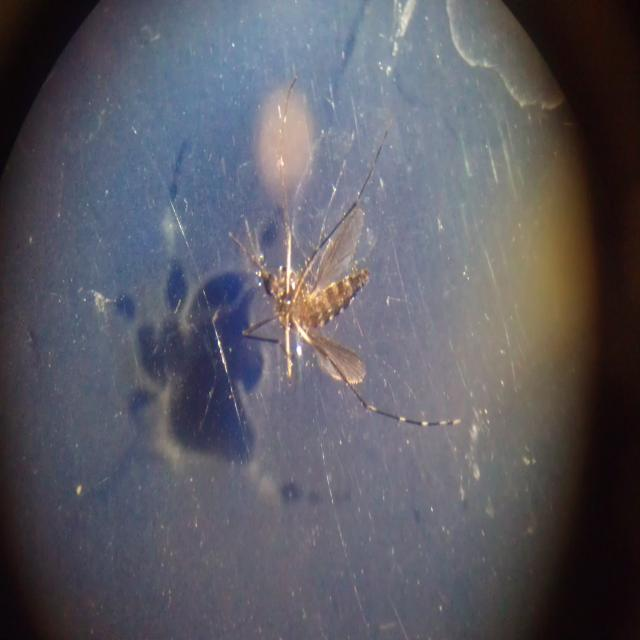albopictus: (196, 111, 466, 485)
